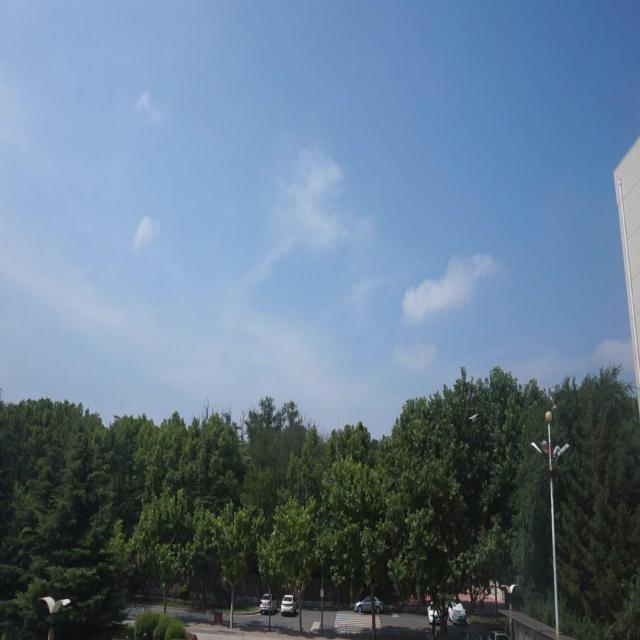drone: (467, 410, 480, 426)
